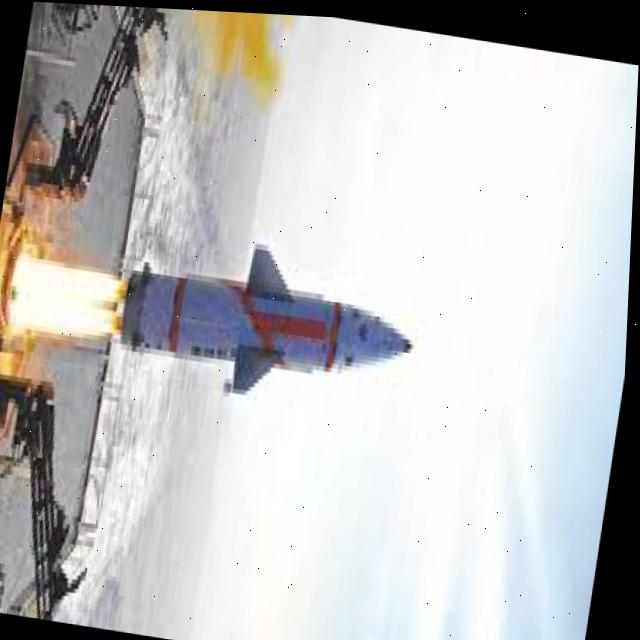missile: (93, 216, 428, 420)
